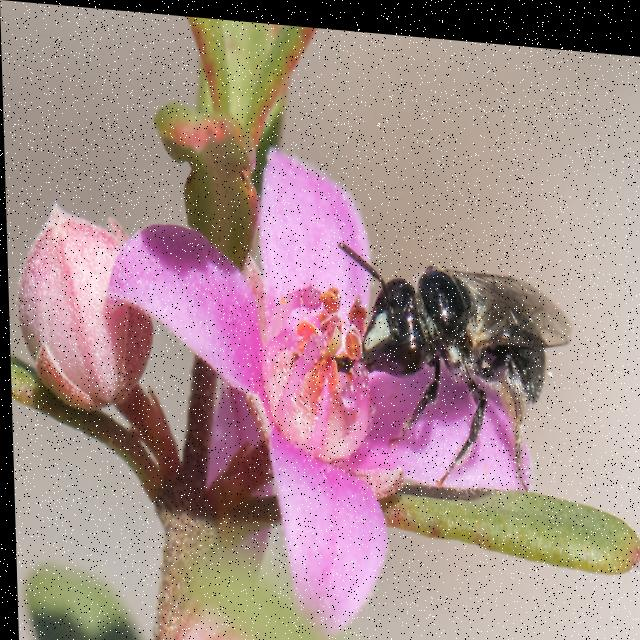Braunsapis: (324, 207, 589, 503)
